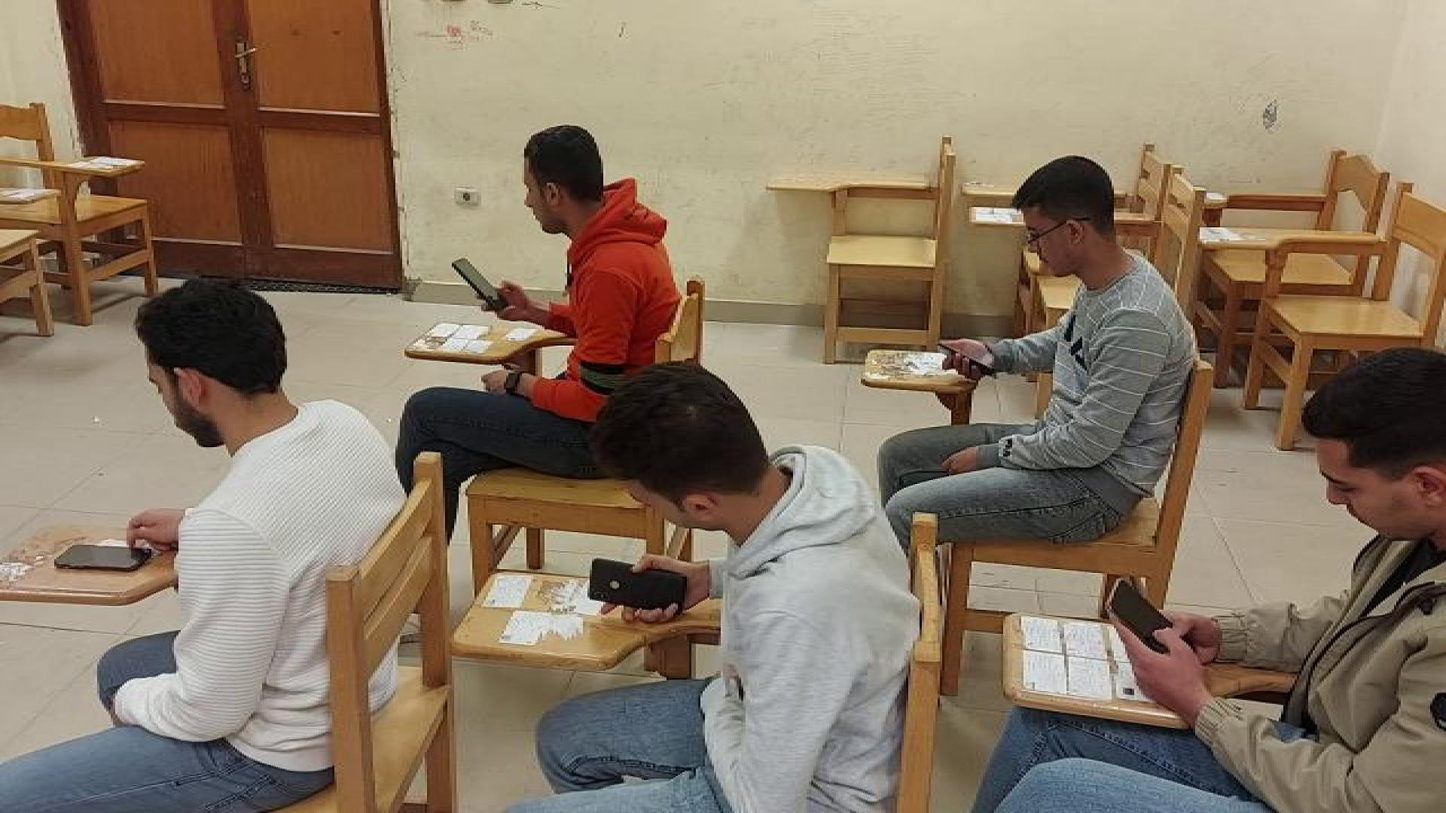phone: (583, 556, 694, 621), (1101, 576, 1192, 654), (448, 254, 516, 315), (50, 541, 158, 579)
